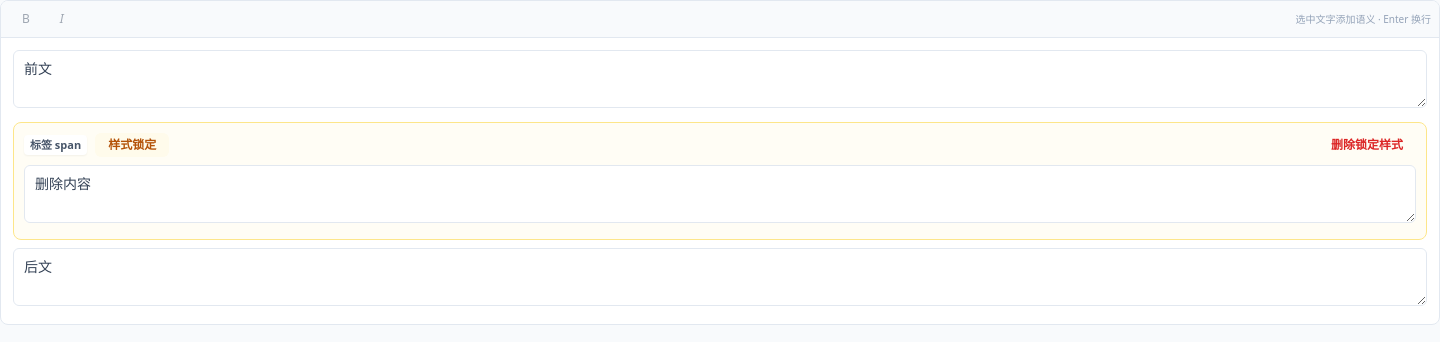
Test: PageVisualEditRichTextEditor › 删除锁定样式后应保留内部内容，并与前后普通文本合并
This screenshot has width=1440, height=342.
Click the button with aria-label "删除锁定样式 span".
click(1367, 145)  # box top-left (1318, 133), bottom-right (1416, 157)
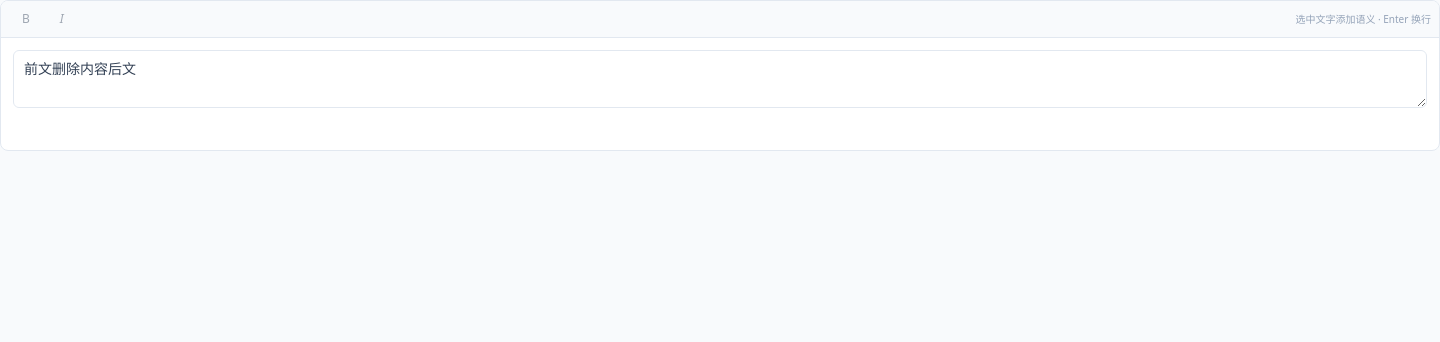
Expected: the number of text boxes is 1, top-left (13, 50), bottom-right (1427, 108)
Expected: the text box holds "前文删除内容后文", top-left (13, 50), bottom-right (1427, 108)
